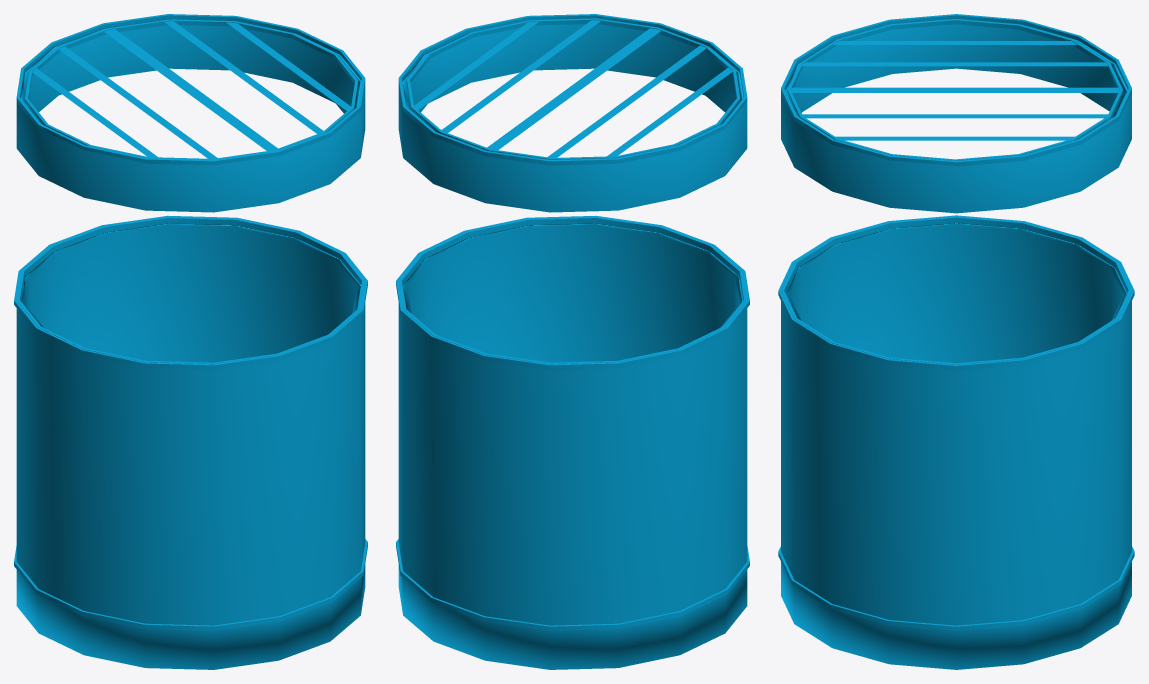
File: Brasero_01_lod0.fbx
3 views of the same model, side by side, from view 1: azimuth 30°, elevation 25°; view 2: azimuth 150°, elevation 25°; view 3: azimuth 270°, elevation 25° (orthographic).
Visible parts, largest first — view 1: Brasero_01_lod0; view 2: Brasero_01_lod0; view 3: Brasero_01_lod0.
Boxes of the visible parts, <box> form: Brasero_01_lod0: <box>14,14,367,669</box>; Brasero_01_lod0: <box>396,14,749,669</box>; Brasero_01_lod0: <box>778,14,1134,669</box>.
Size of the model in its own units: 62.63 by 98.45 by 62.63.
